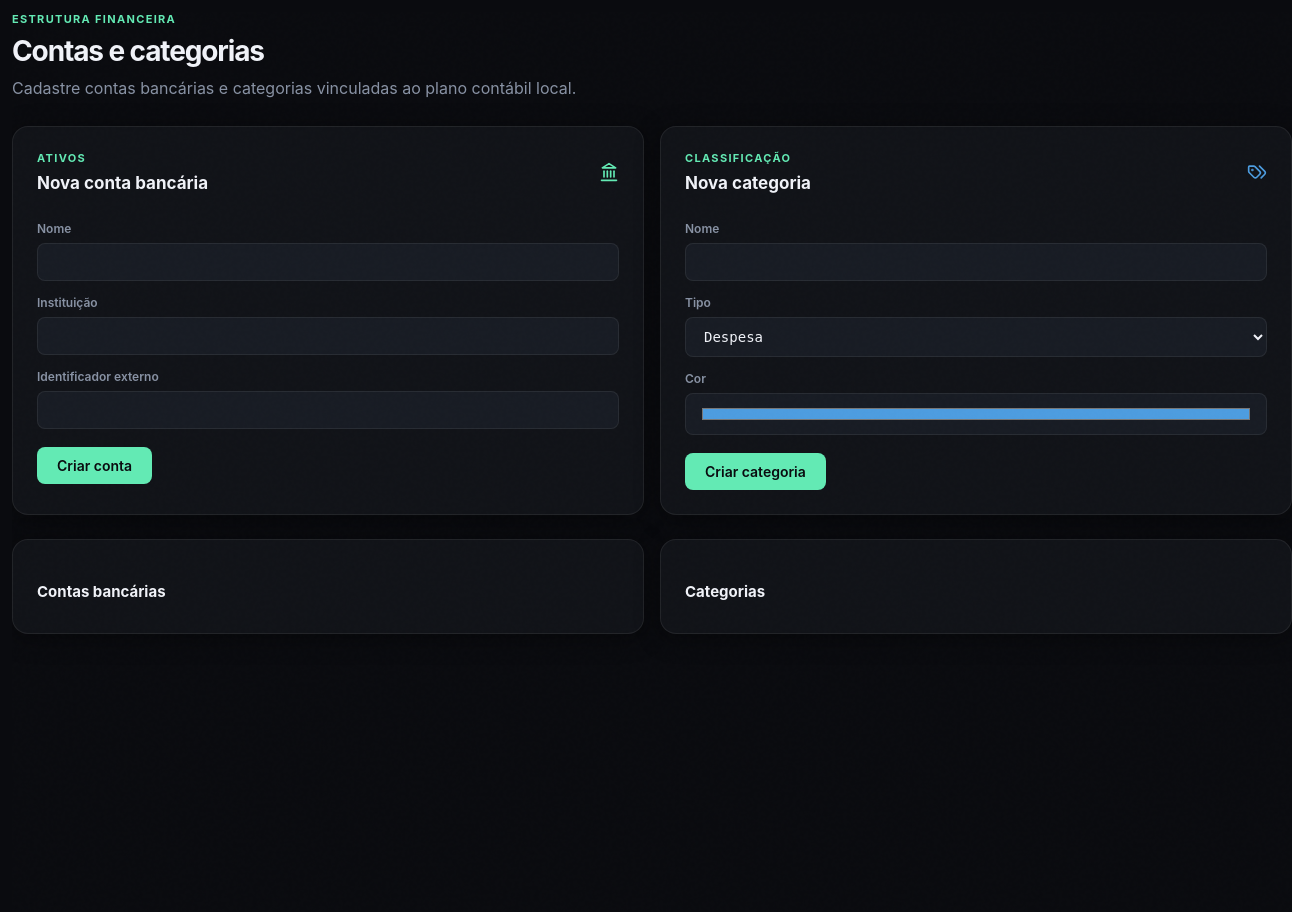
Cadastros › bloqueia criação repetida e mostra erro tipado
This screenshot has width=1292, height=912.
Type "Banco" into the field labelled "Nome" below "Nova conta bancária" at [328, 262], box left=37, top=243, right=619, bottom=281
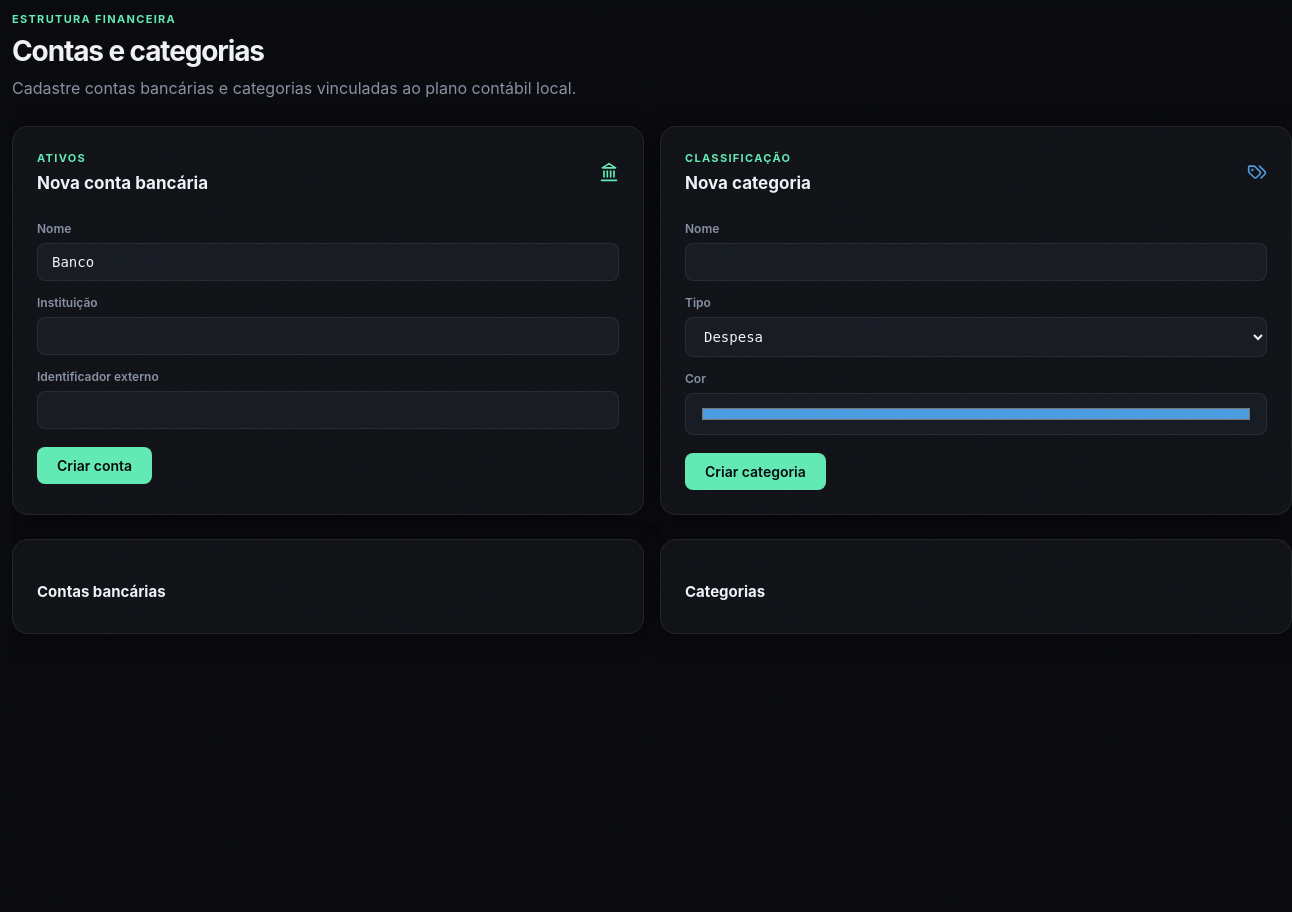
Click the button "Criar conta" at [94, 465], box left=37, top=447, right=152, bottom=484
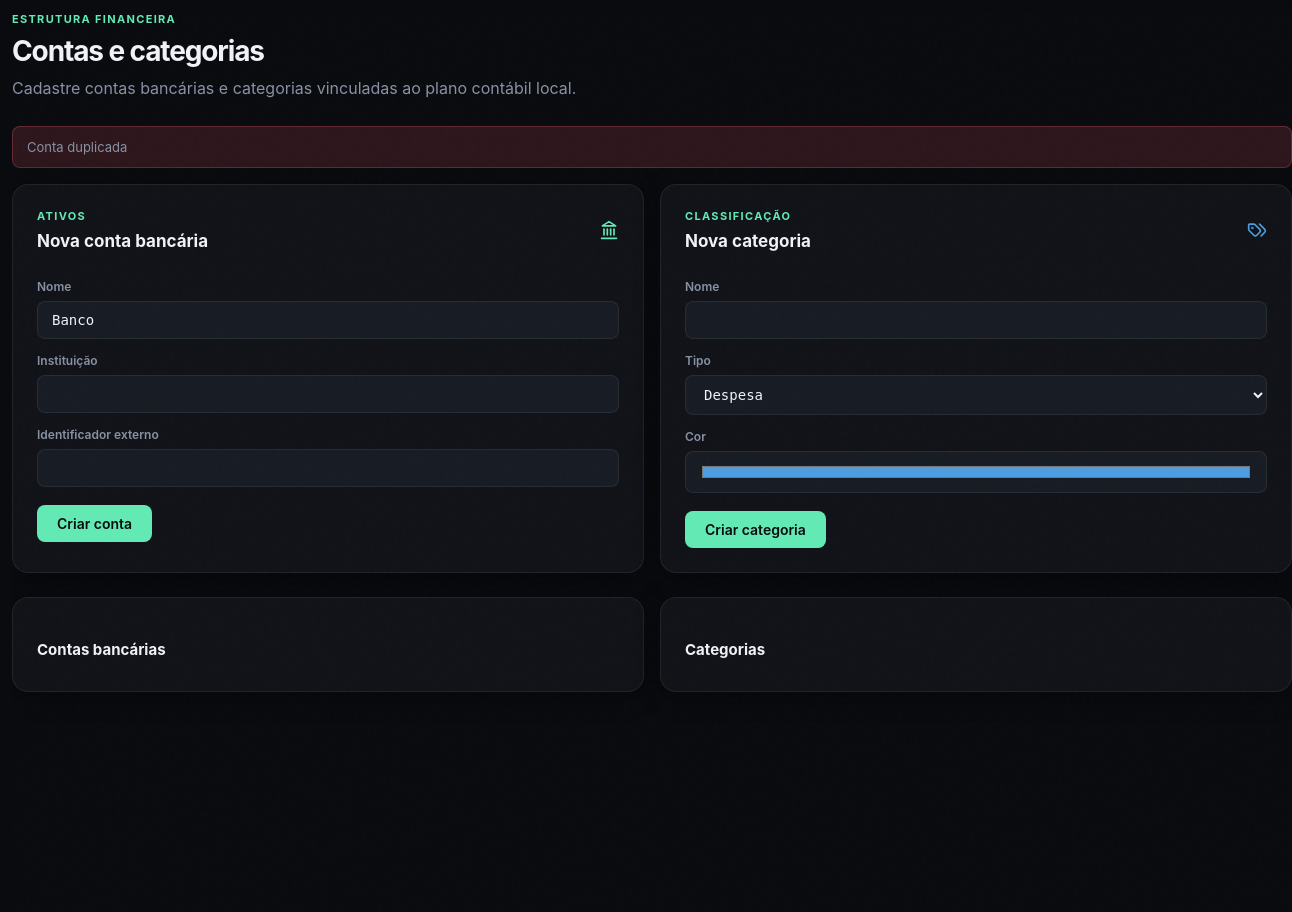
Result: the message reads "Conta duplicada" at left=27, top=139, right=127, bottom=155
